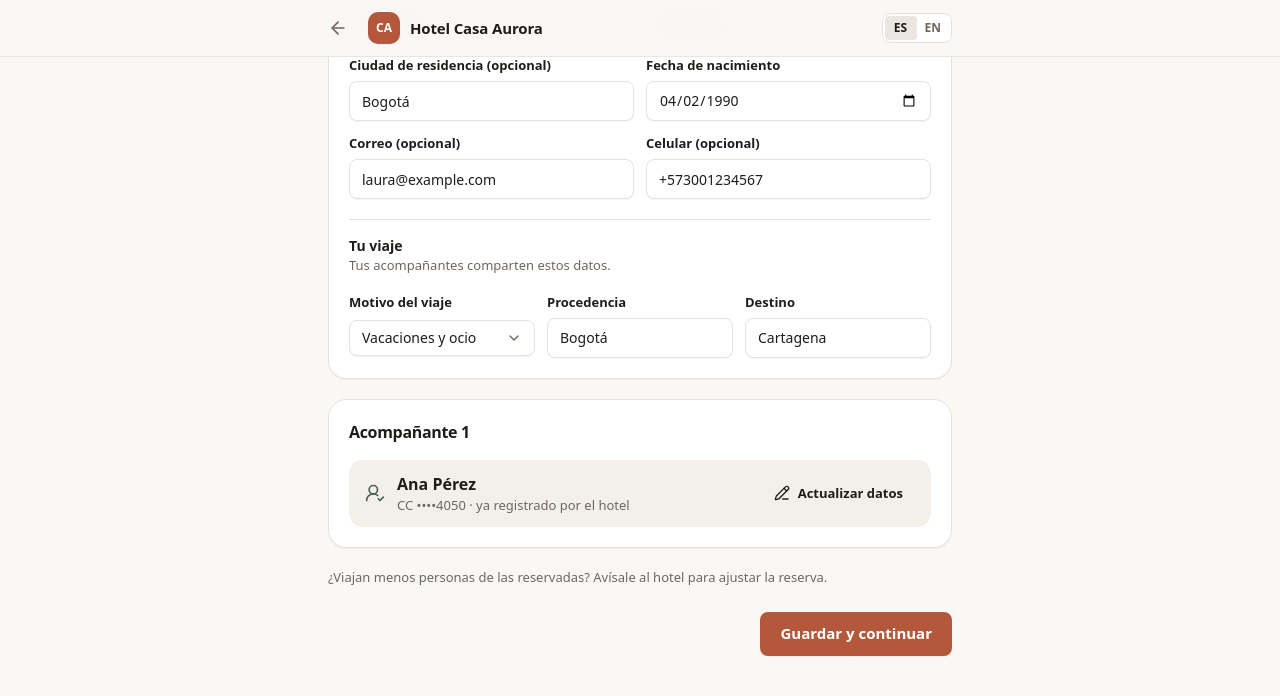
CheckinPage — guests › shows the hotel answer when a document belongs to someone else
(page scrolled)
Click the button "Guardar y continuar" at (856,634), box [760, 612, 952, 656]
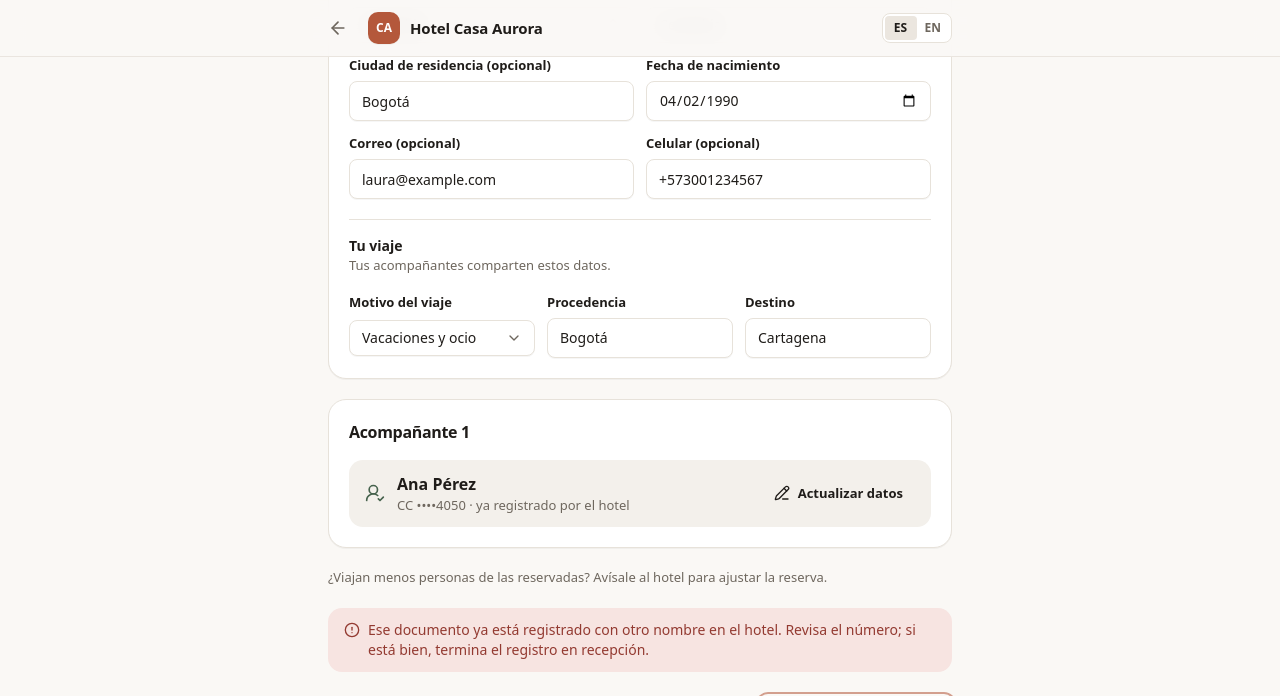
expect the message shows "Ese documento ya está registrado con otro nombre en el hotel": met, box [368, 620, 916, 658]
